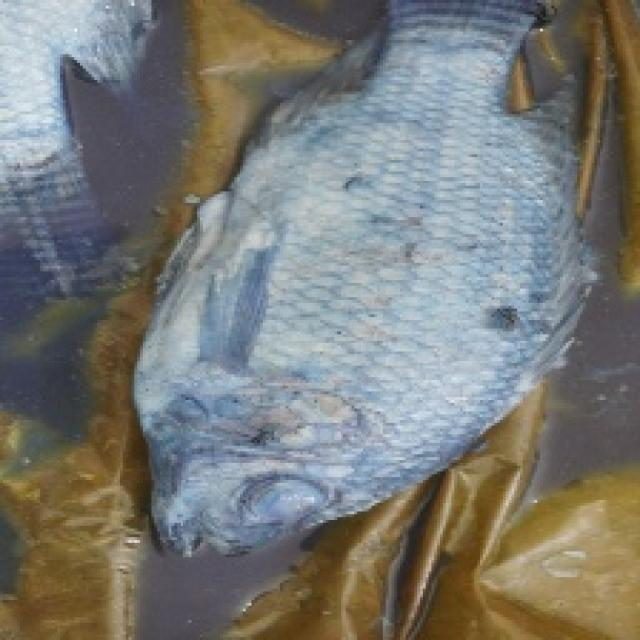Non-Fresh: (143, 3, 600, 569), (243, 462, 329, 535)
